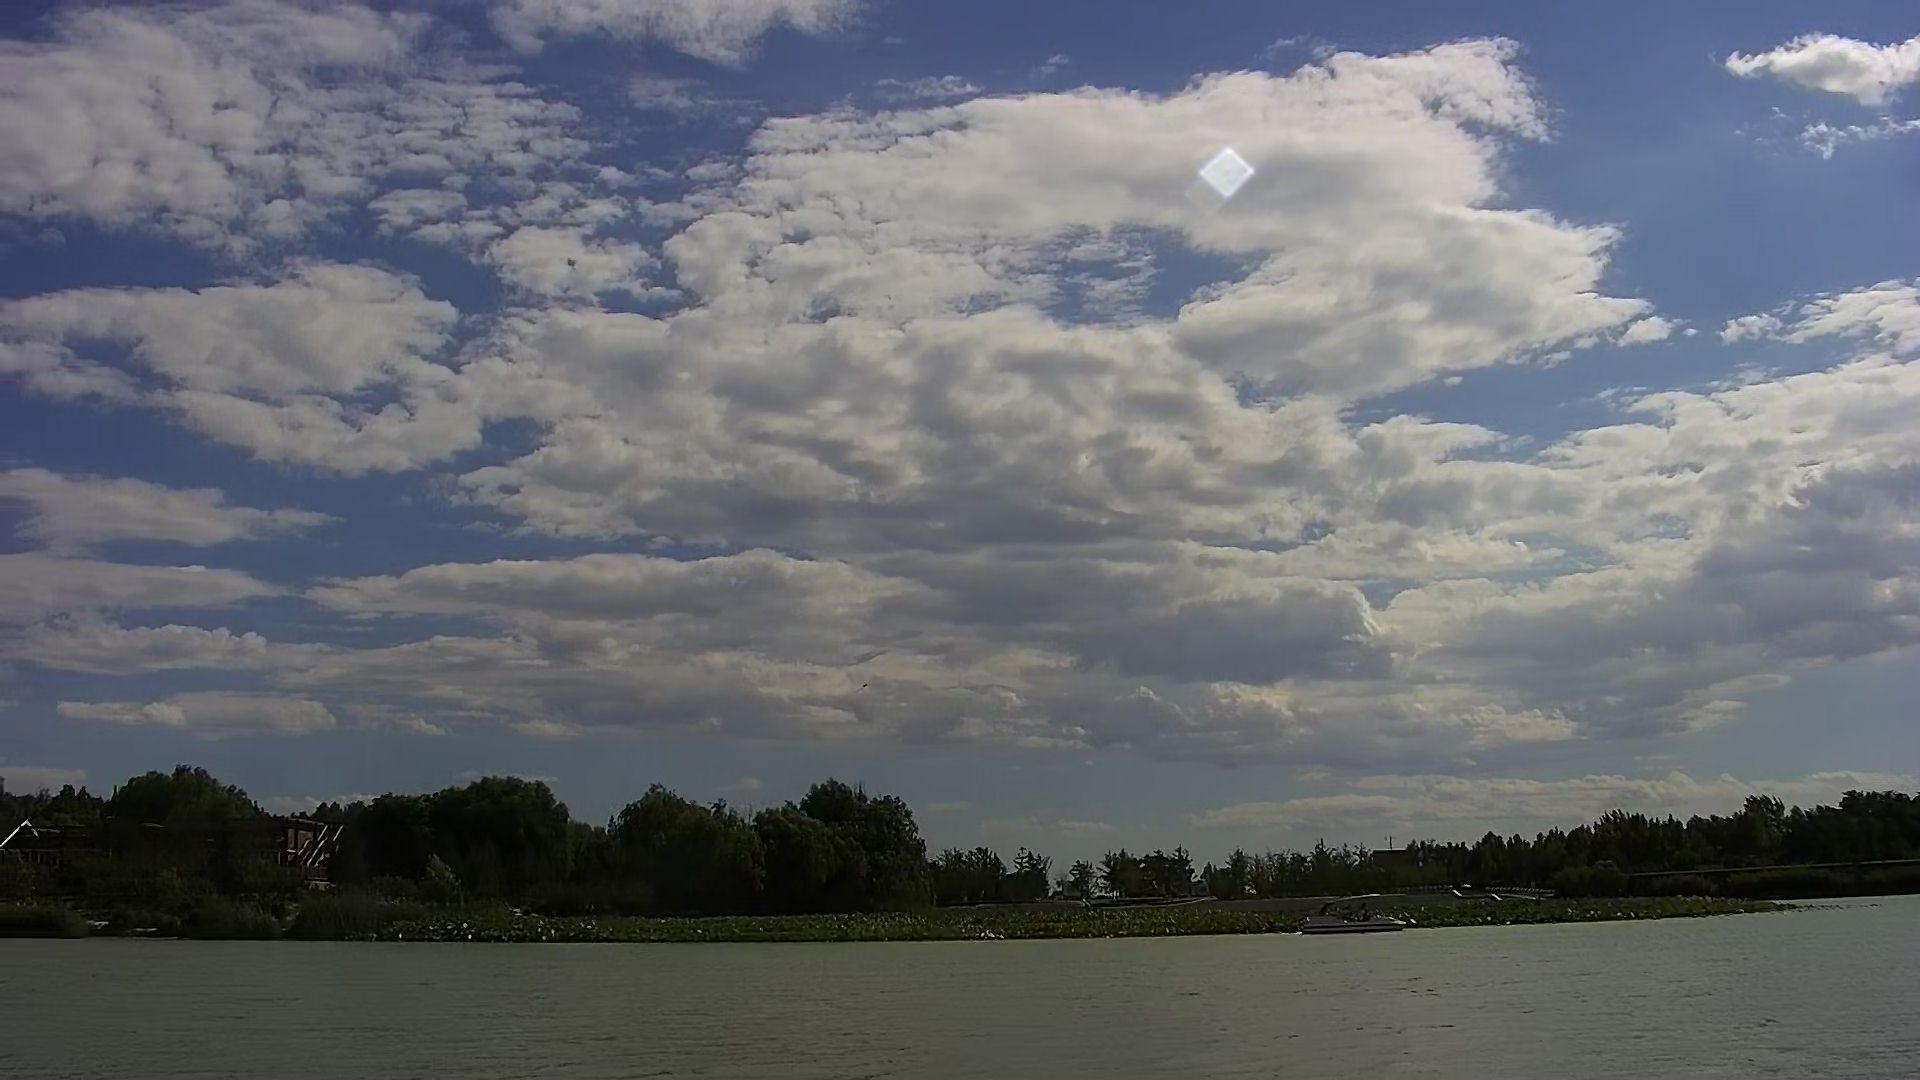boat: (1295, 891, 1408, 945)
